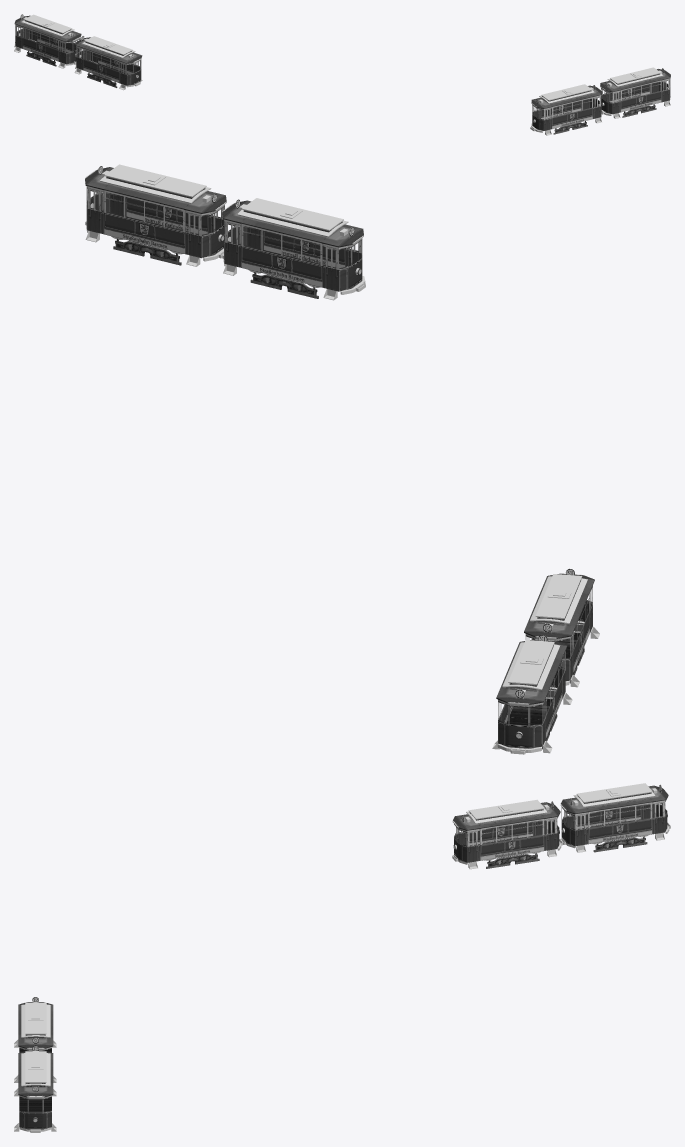
Rendered from AM_OLD_Tram_A.FBX.
3 renders of one model, top to bottom at view 1: azimuth 30°, elevation 25°; view 2: azimuth 150°, elevation 25°; view 3: azimuth 270°, elevation 25°, orthographic. The views are drawn at different scales.
Visible parts, largest first — view 1: Box647, Box668, Box022, Box001, Rectangle005, Rectangle007, Rectangle001, Rectangle003; view 2: Box647, Box668, Box001, Box022, Rectangle005, Rectangle007, Rectangle003, Rectangle001; view 3: Box001, Box022, Box668, Box647, Rectangle001, Rectangle003, Rectangle005, Rectangle007.
Boxes of the visible parts, x1,y1,x2,y2 form: Box647: (531,85,602,130); Box668: (600,69,670,114); Box022: (75,37,142,85); Box001: (14,15,81,64); Rectangle005: (541,84,592,100); Rectangle007: (610,67,660,83); Rectangle001: (24,14,71,33); Rectangle003: (85,36,132,54); Box647: (222,200,363,291); Box668: (85,167,226,258); Box001: (496,639,567,748); Box022: (524,573,594,681); Rectangle005: (242,198,343,230); Rectangle007: (104,164,206,197); Rectangle003: (535,574,582,618); Rectangle001: (508,640,554,684); Box001: (560,785,668,846); Box022: (452,802,560,862); Box668: (18,1050,53,1129); Box647: (18,1002,53,1052); Rectangle001: (576,783,652,802); Rectangle003: (468,799,544,819); Rectangle005: (25,1002,46,1034); Rectangle007: (25,1051,46,1082).
Size of the model in its own units: 4962 by 378 by 4398.
Materials: 4 (4 with a texture image).
